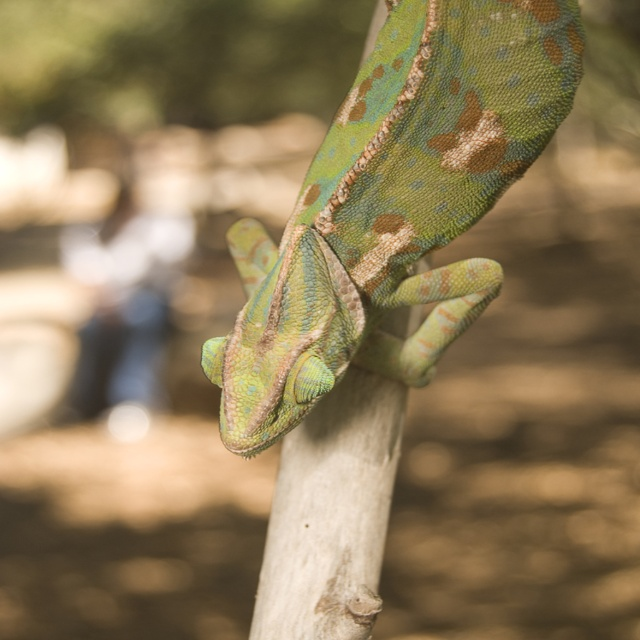Lizard: (201, 0, 587, 461)
